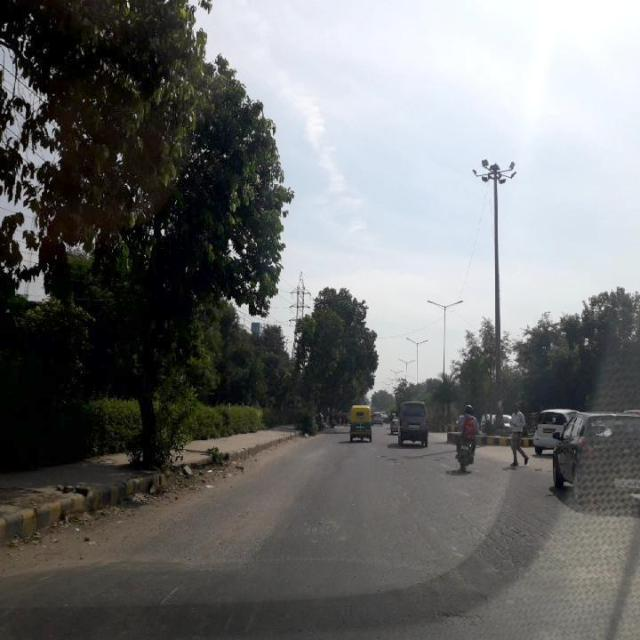pothole: (454, 507, 592, 588)
